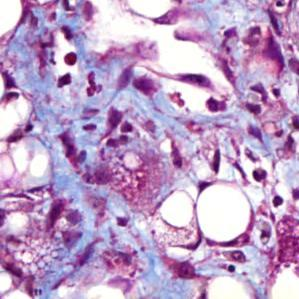steatosis: (195, 184, 258, 243)
